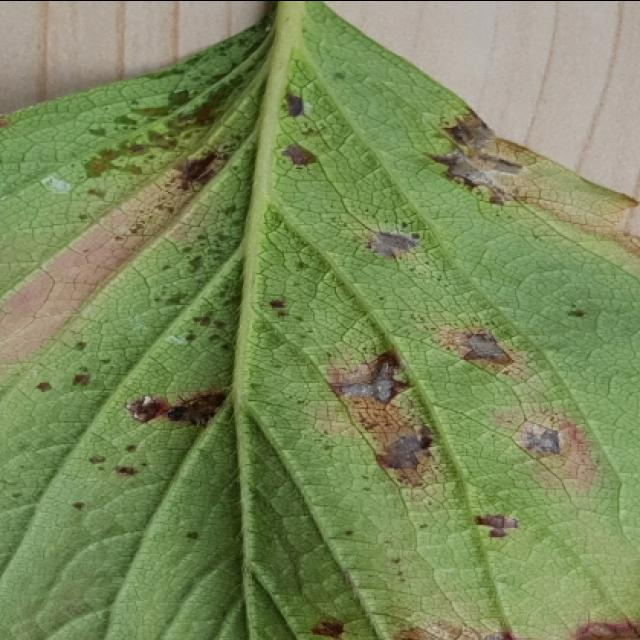Angular Leafspot: (0, 5, 638, 638)
